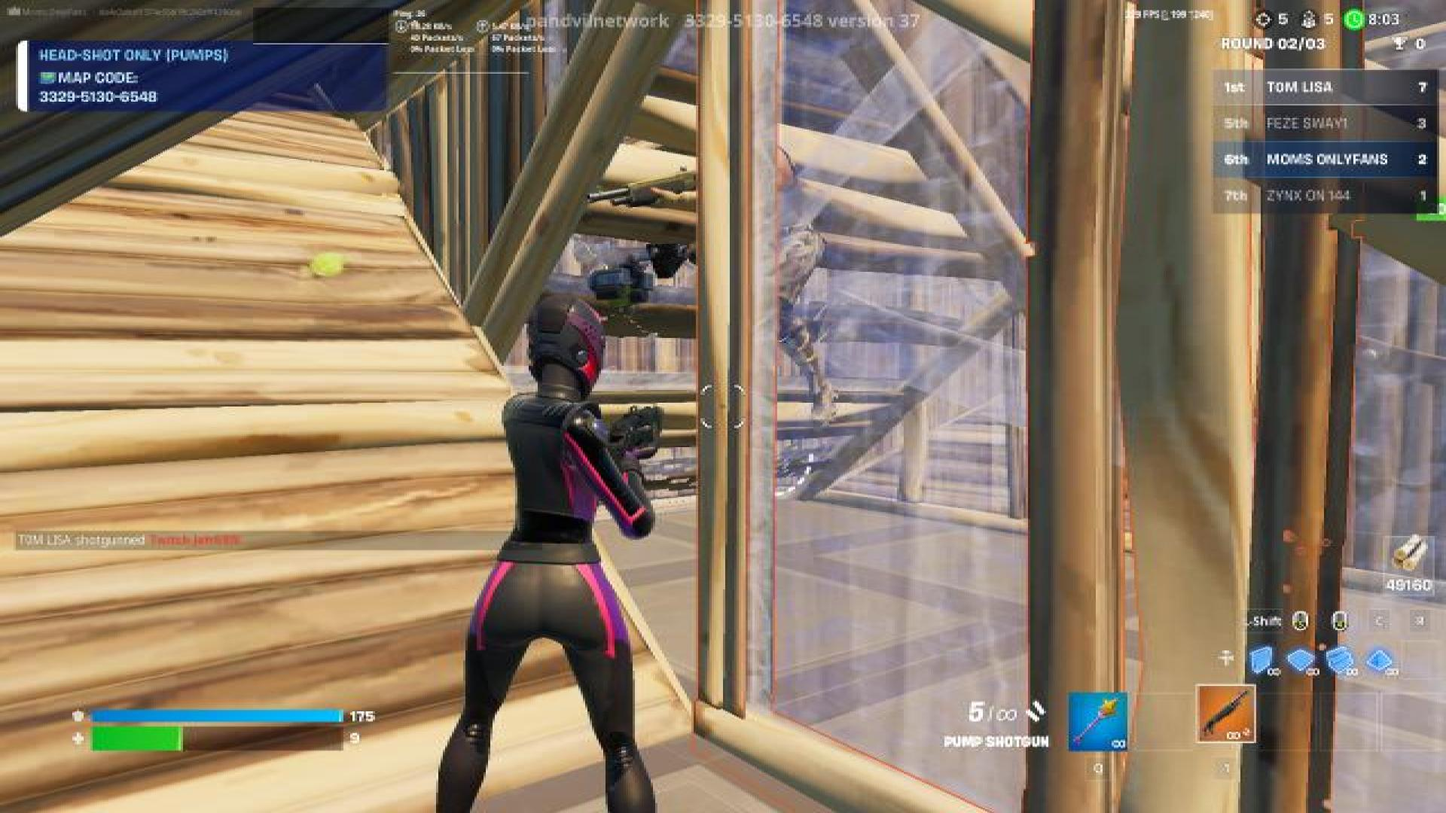player: (686, 85, 851, 451)
